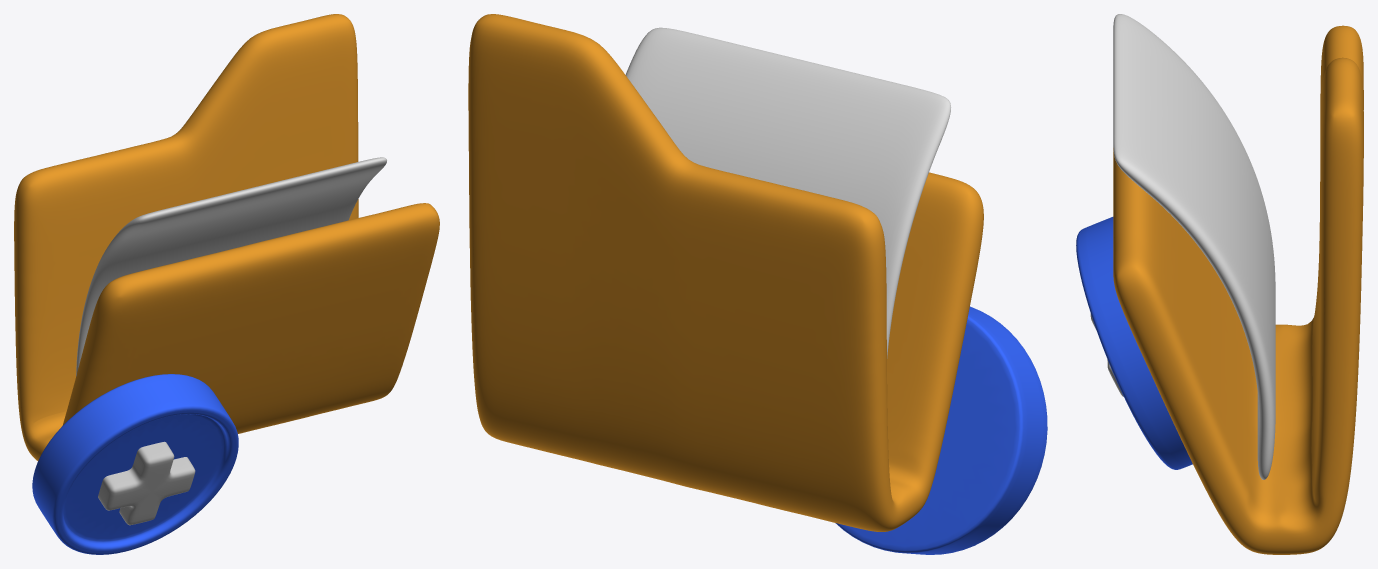
The model's file is add-folder-animated-3d-icon-1408669129495.glb.
3 renders of one model, left to right at view 1: azimuth 30°, elevation 25°; view 2: azimuth 150°, elevation 25°; view 3: azimuth 270°, elevation 25°, orthographic. The views are drawn at different scales.
Visible parts, largest first — view 1: Folder, Base, File 1, Add Symbol; view 2: Folder, File 1, Base; view 3: Folder, File 1, Base.
Part boxes in pixels (<box>): Folder: <box>14,14,439,460</box>; Base: <box>32,374,238,554</box>; File 1: <box>76,157,386,376</box>; Add Symbol: <box>98,441,195,525</box>; Folder: <box>468,14,983,531</box>; File 1: <box>625,27,950,358</box>; Base: <box>835,306,1047,554</box>; Folder: <box>1113,25,1363,554</box>; File 1: <box>1113,14,1275,479</box>; Base: <box>1076,217,1192,469</box>.
Size of the model in its own units: 2.15 by 2.25 by 1.12.
